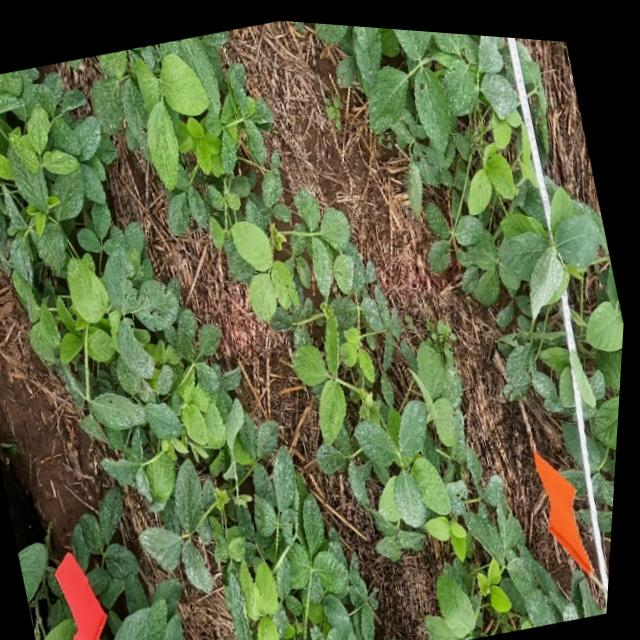soy_plant: (94, 31, 579, 638), (0, 68, 383, 640), (315, 18, 605, 313), (462, 172, 627, 544), (79, 509, 190, 640), (25, 541, 84, 640), (518, 33, 550, 150), (108, 489, 125, 539), (326, 91, 342, 123), (500, 39, 511, 69)
